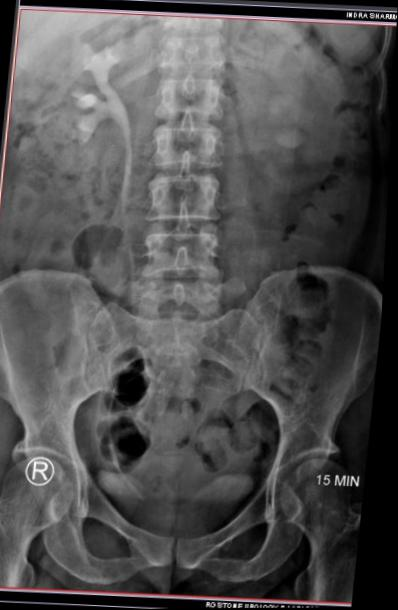right kidney: (25, 29, 127, 174)
vertebrae: (148, 74, 230, 129)
